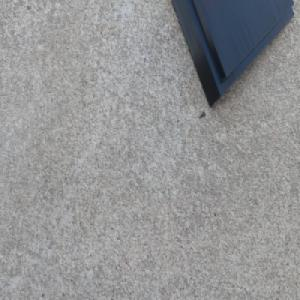PlasticPart: (169, 0, 295, 108)
